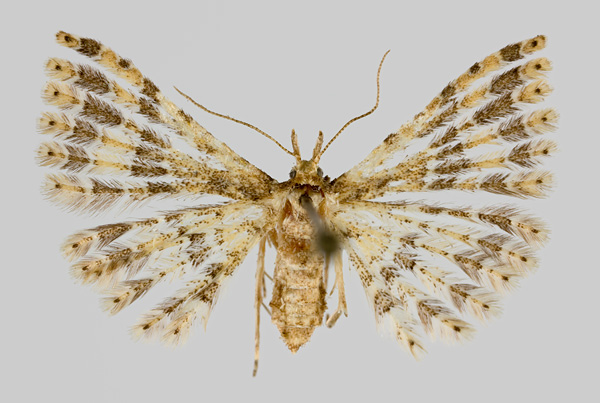Alucitidae: (27, 27, 558, 378)
moth: (25, 25, 556, 376)
